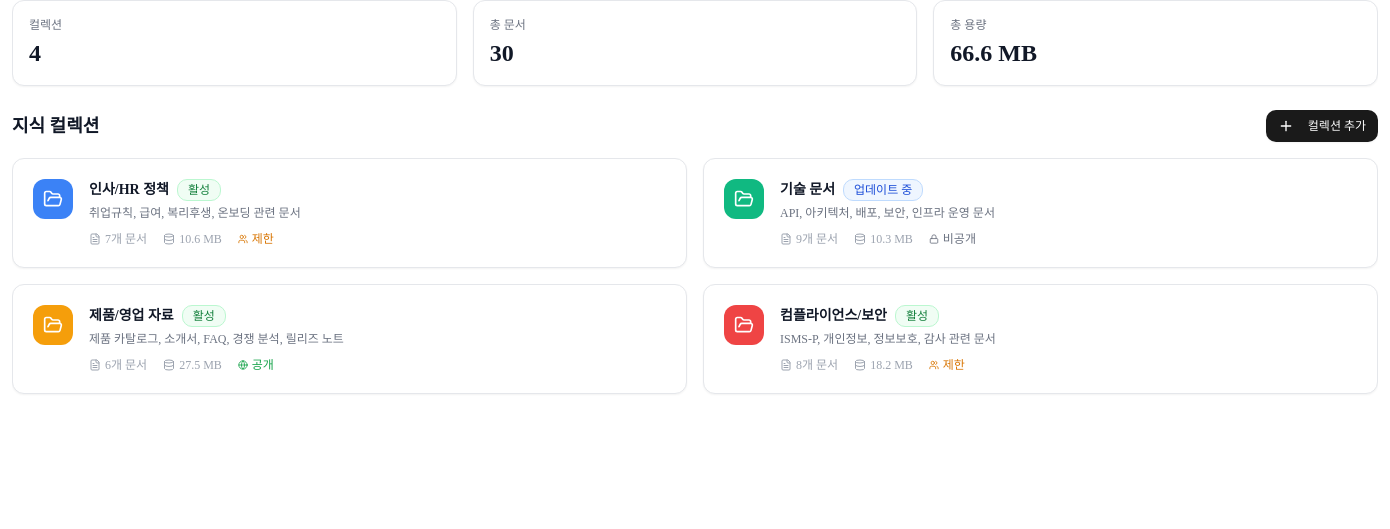
Test: KnowledgeBaseView — QA Edge Cases › Data Boundary Tests › footer shows 0개 문서 when search returns no results
The width and height of the screenshot is (1390, 529).
Click the button "인사/HR 정책 활성 취업규칙, 급여, 복리후생, 온보딩 관련 문서 7개 문서 10.6 MB 제한".
click(53, 199)  # box [12,158,687,268]
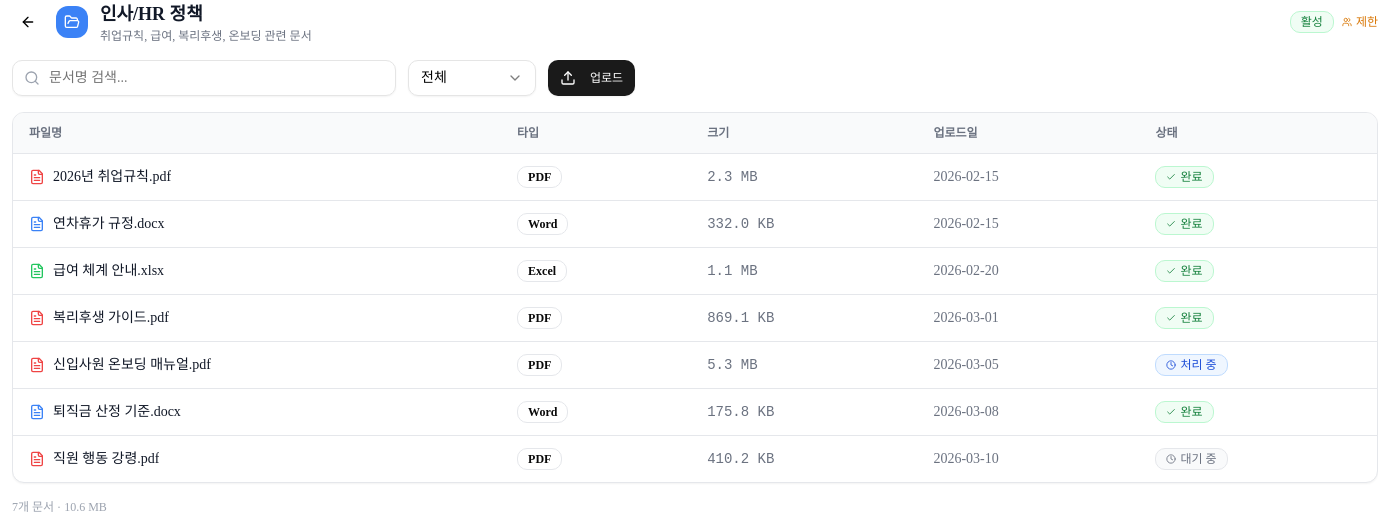
Type "nonexistent_file_zzz" into the field named "문서 검색".
click(204, 78); type("nonexistent_file_zzz")  # box [12,60,396,96]
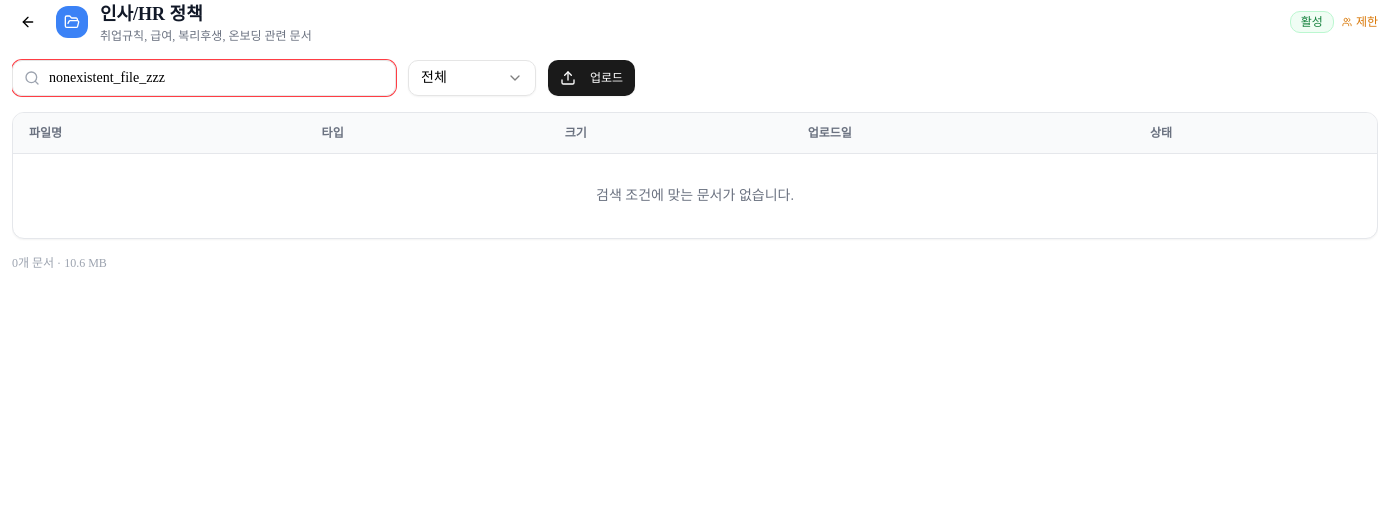
Expected: the text "0개 문서 · 10.6 MB" is shown, [12,256,107,270]
